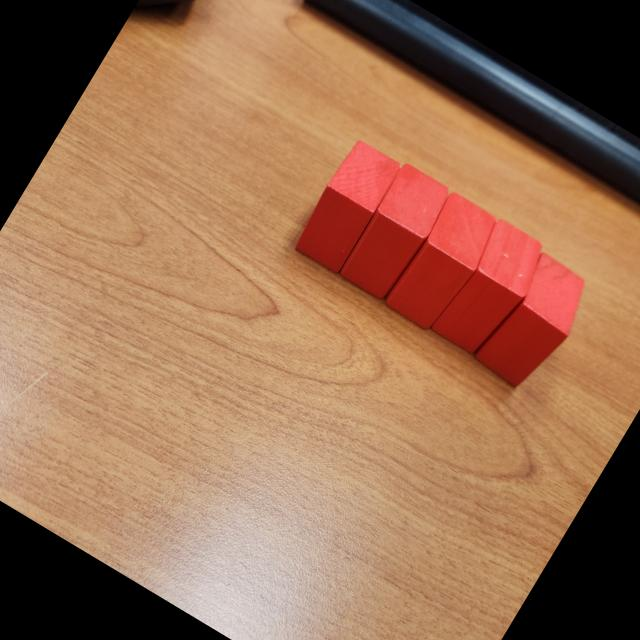red: (469, 248, 598, 397), (428, 216, 554, 364), (380, 190, 504, 340), (336, 157, 458, 306), (290, 136, 404, 276)
